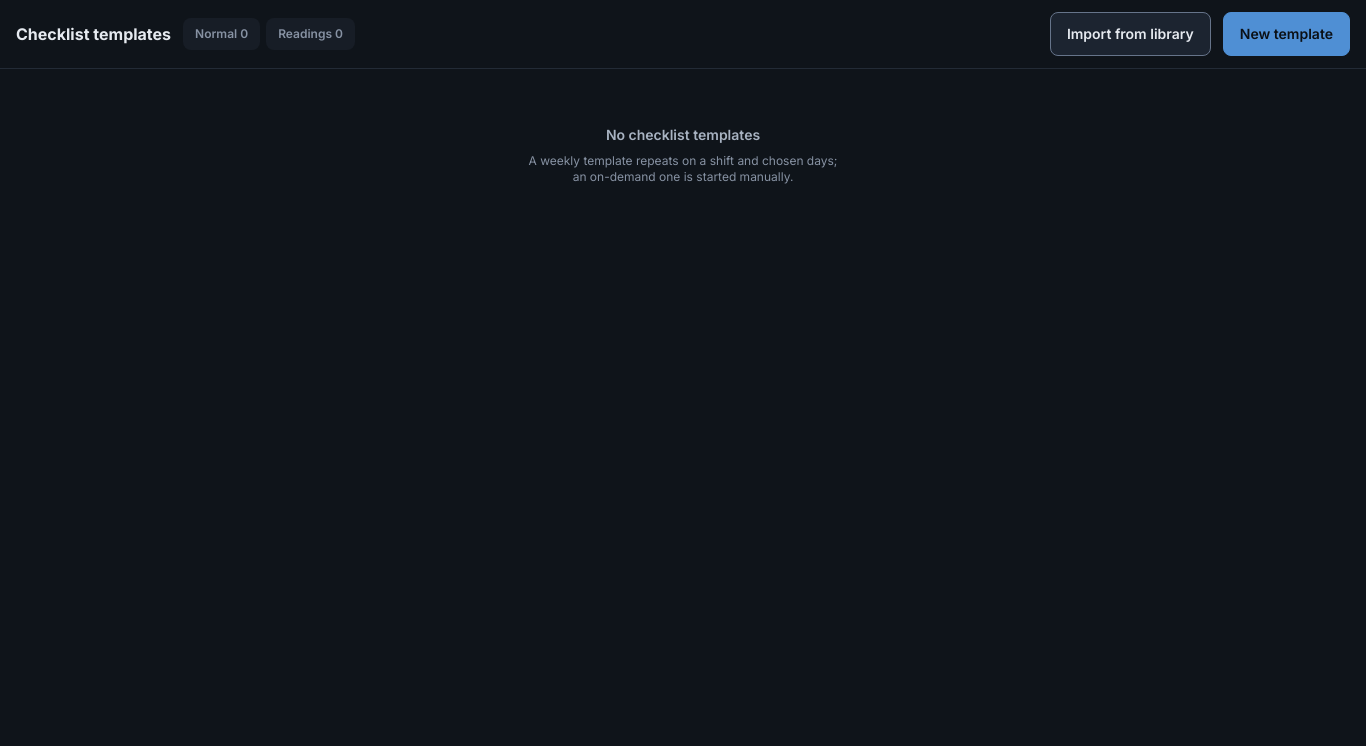
Test: Import from library › imports into the chosen department and opens the copy in the editor
Click the button "Import from library": x=1130, y=34 [1050,12,1211,56]
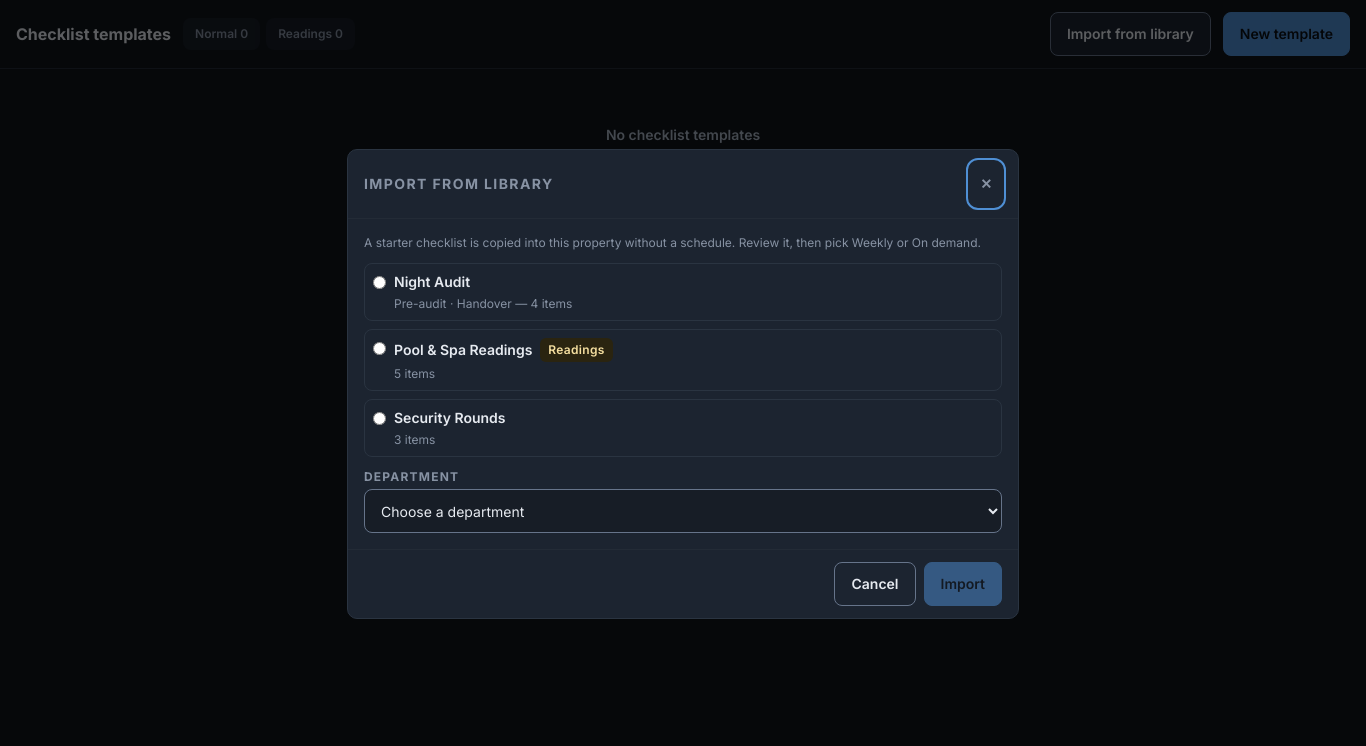
Click the radio button labelled "Night Audit Pre-audit · Handover — 4 items": x=380, y=282 [373,276,386,289]
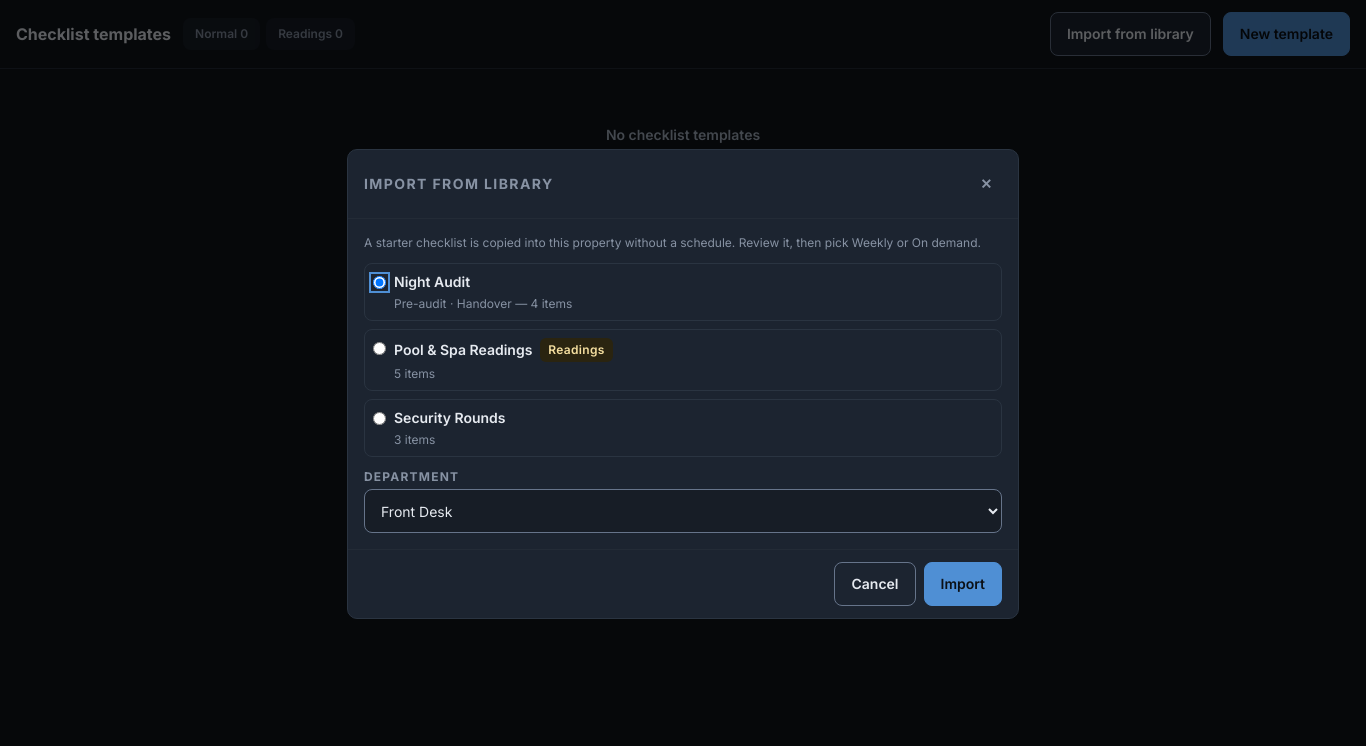
expect the dropdown labelled "Department" shows "Front Desk": met, box [364,489,1002,533]
Click the button "Import": x=963, y=584 [924,562,1002,606]
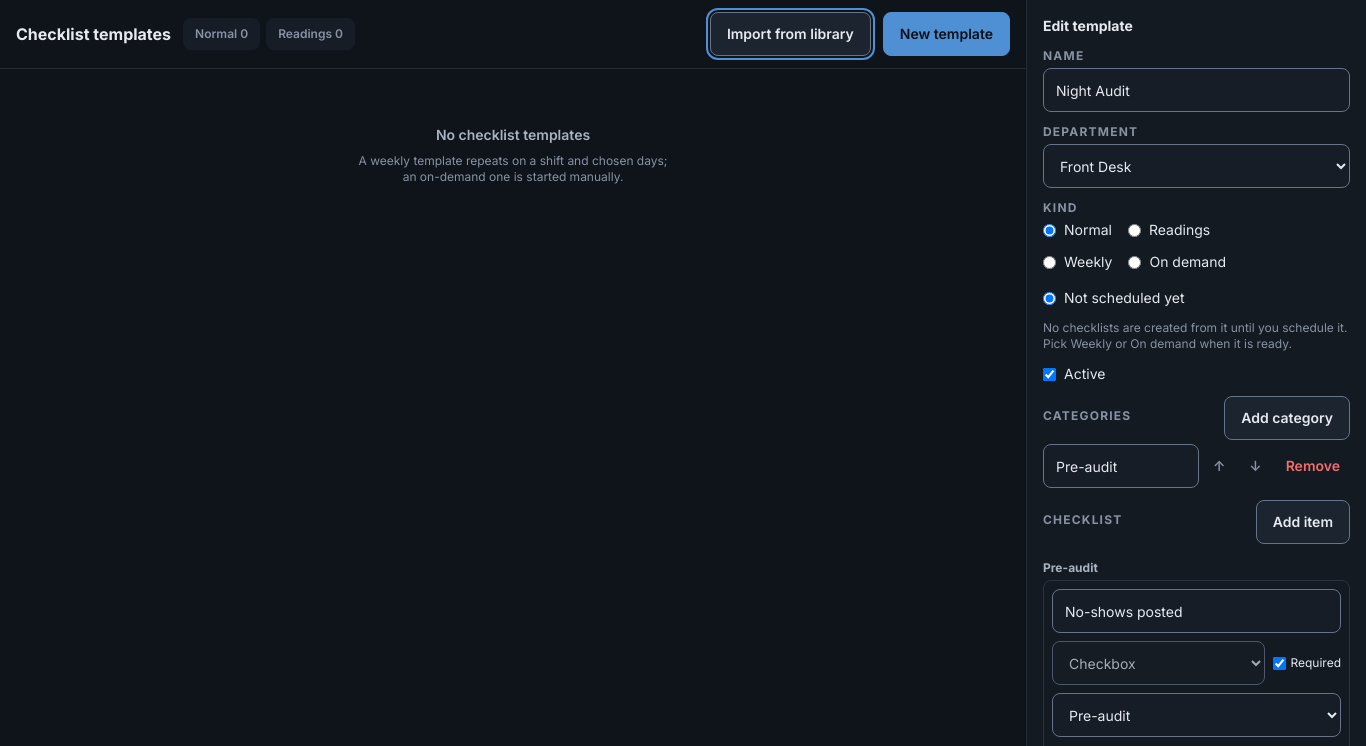
expect the heading "Edit template" is shown: met, box [1043,17,1133,34]
expect the field labelled "Name" holds "Night Audit": met, box [1043,68,1350,112]
expect the radio button labelled "Not scheduled yet" is checked: met, box [1043,292,1056,304]
